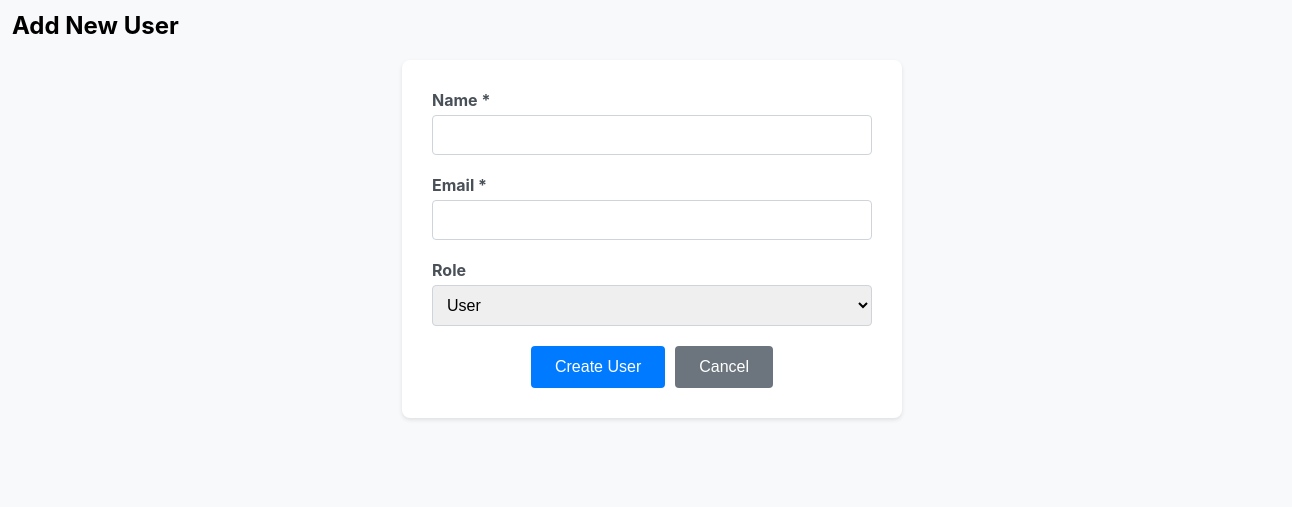
AddUser Component › handles API error
Type "Test User" into the field labelled "Name *" at (652, 135), box left=432, top=115, right=872, bottom=155
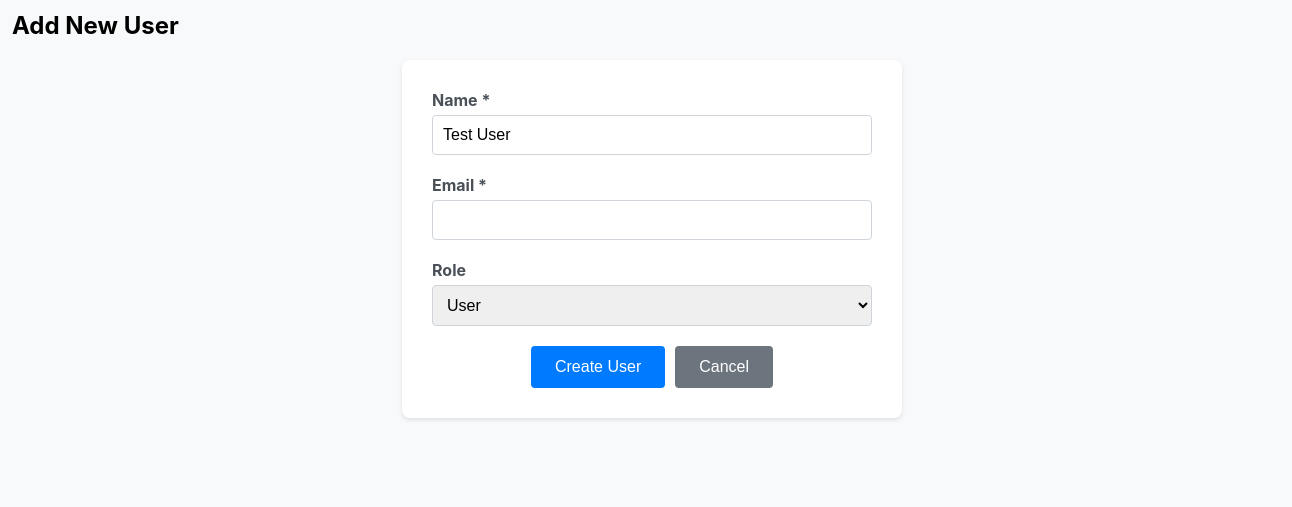
Type "test@example.com" into the field labelled "Email *" at (652, 220), box left=432, top=200, right=872, bottom=240
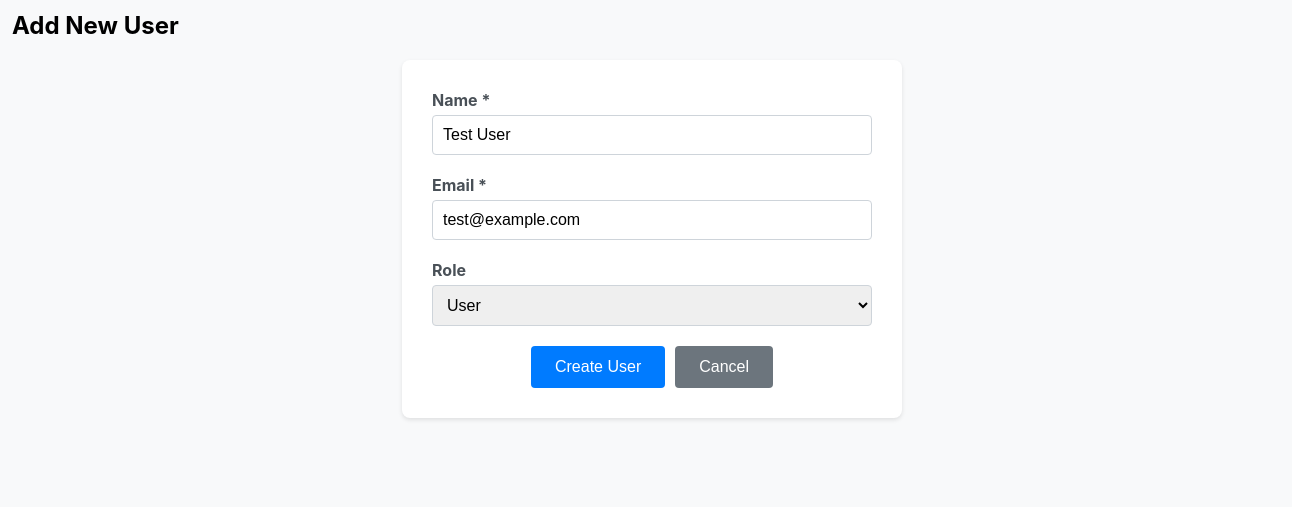
Click the button "Create User" at (598, 367), box left=531, top=346, right=665, bottom=388
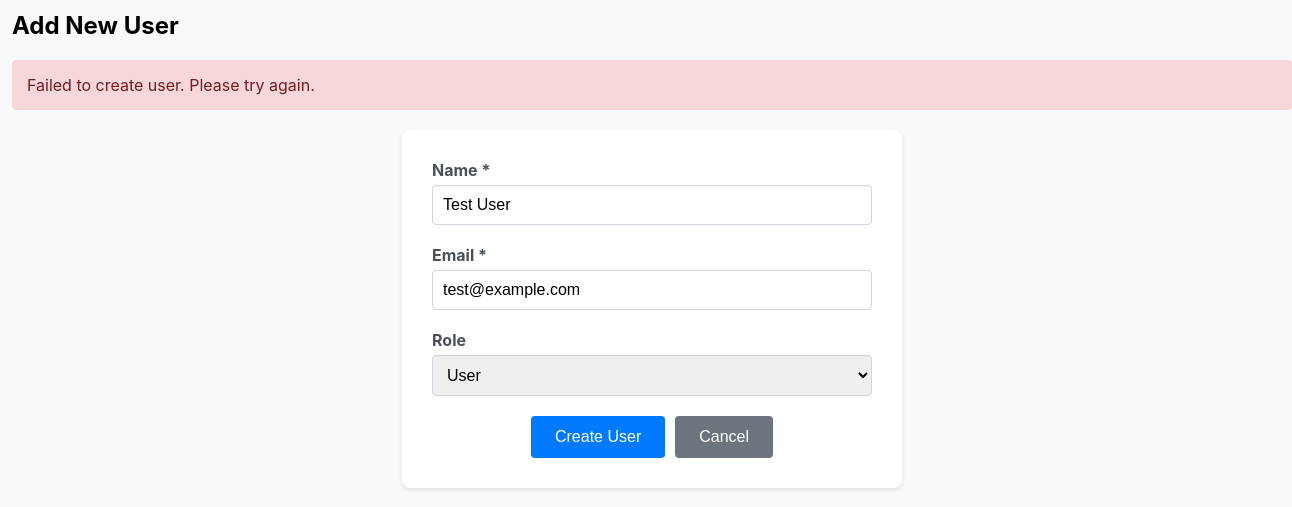
Check: the text "Failed to create user. Please try again." is shown, box left=12, top=60, right=1291, bottom=110
